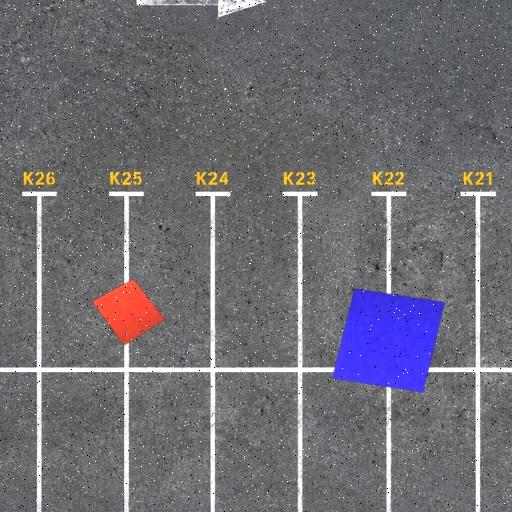BLUE_SQUARE: (331, 288, 446, 394)
RED_SQUARE: (91, 278, 166, 346)
